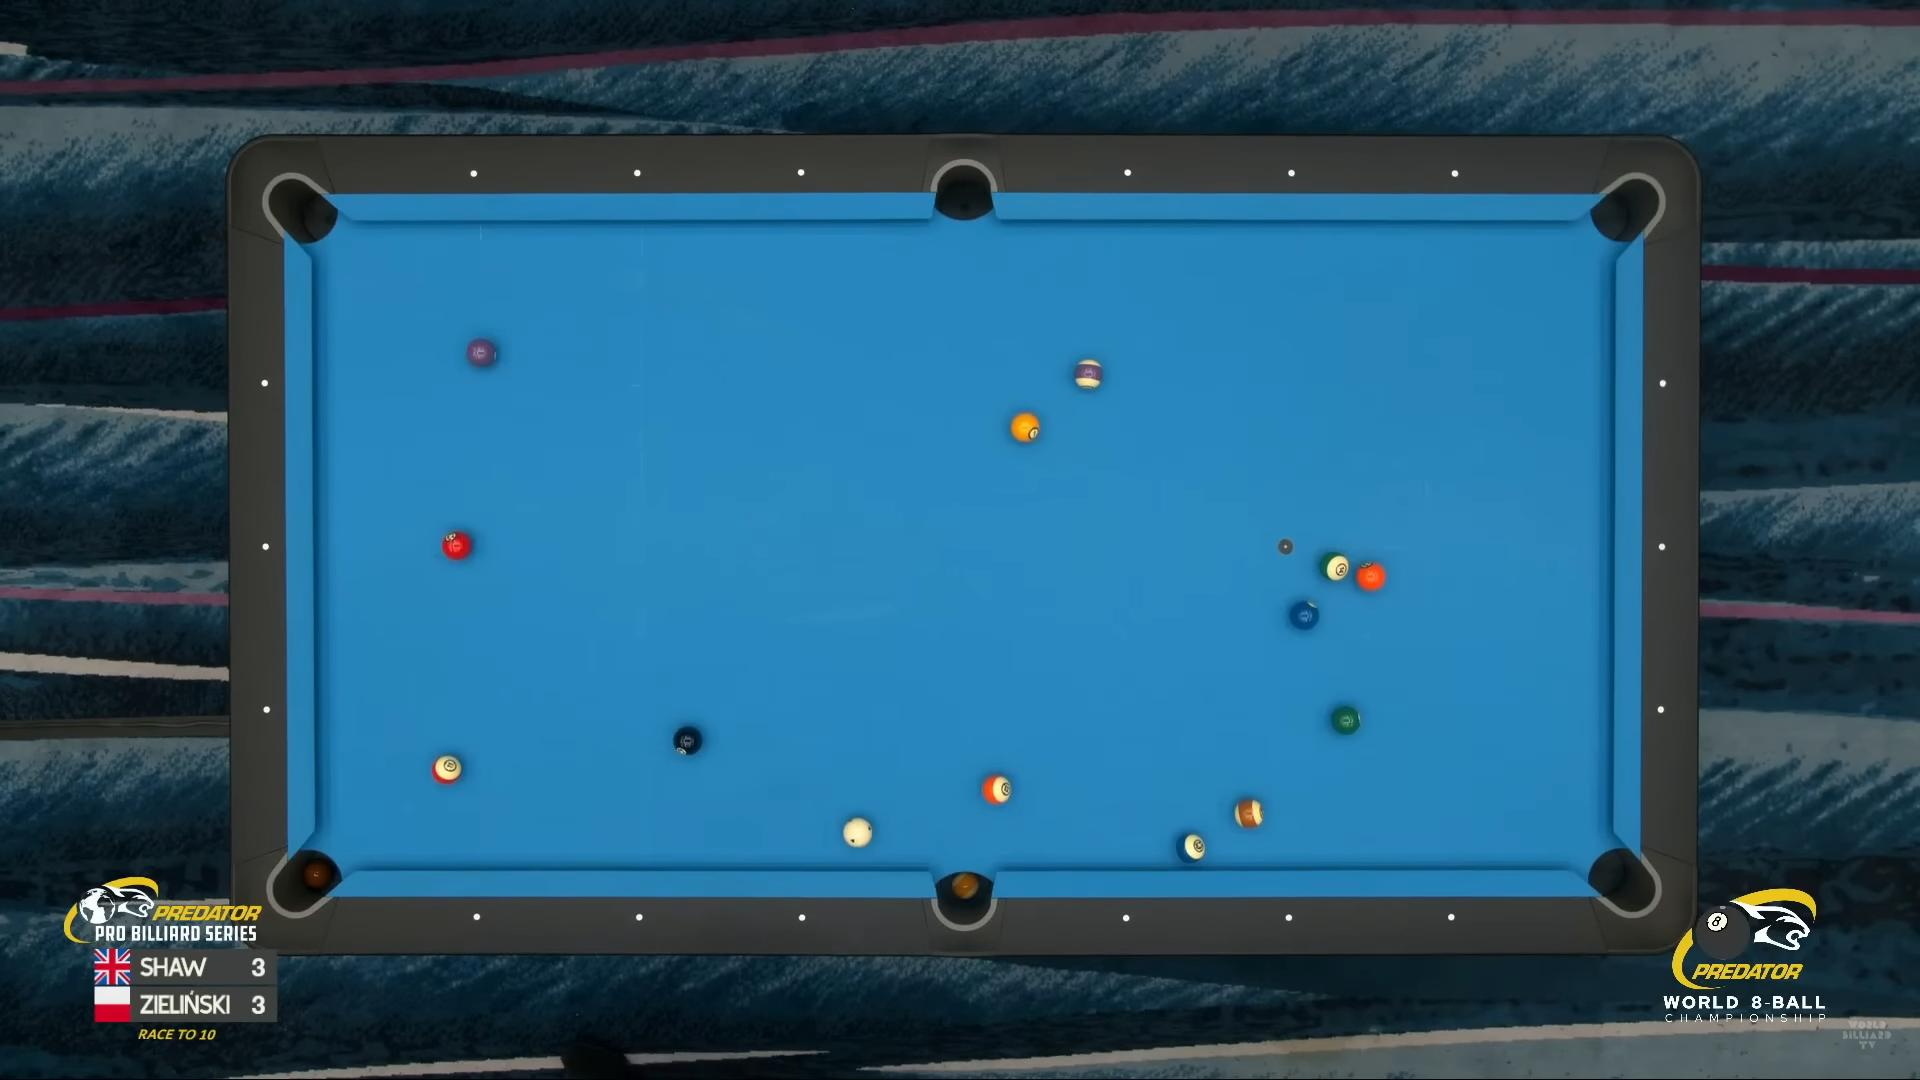Black: (673, 727, 703, 756)
Cue: (844, 816, 873, 847)
Dot: (1655, 377, 1669, 392), (1654, 703, 1668, 717), (1444, 910, 1458, 924), (469, 910, 484, 924), (258, 703, 273, 716), (468, 166, 481, 181), (630, 166, 645, 179), (794, 166, 808, 179), (1121, 166, 1135, 179), (1282, 911, 1296, 924), (1118, 911, 1131, 926), (794, 911, 808, 924), (632, 911, 646, 924), (258, 541, 272, 554), (258, 376, 272, 389), (1284, 166, 1298, 179), (1448, 167, 1461, 181), (1655, 541, 1668, 554)
Solid: (1290, 601, 1321, 632), (1357, 562, 1386, 592), (467, 339, 497, 368), (1010, 413, 1039, 442), (442, 531, 472, 559), (1332, 707, 1361, 735)
Striped: (1320, 553, 1350, 582), (1233, 799, 1263, 828), (1176, 833, 1207, 862), (433, 756, 463, 785), (1075, 359, 1102, 390), (982, 774, 1011, 803)
